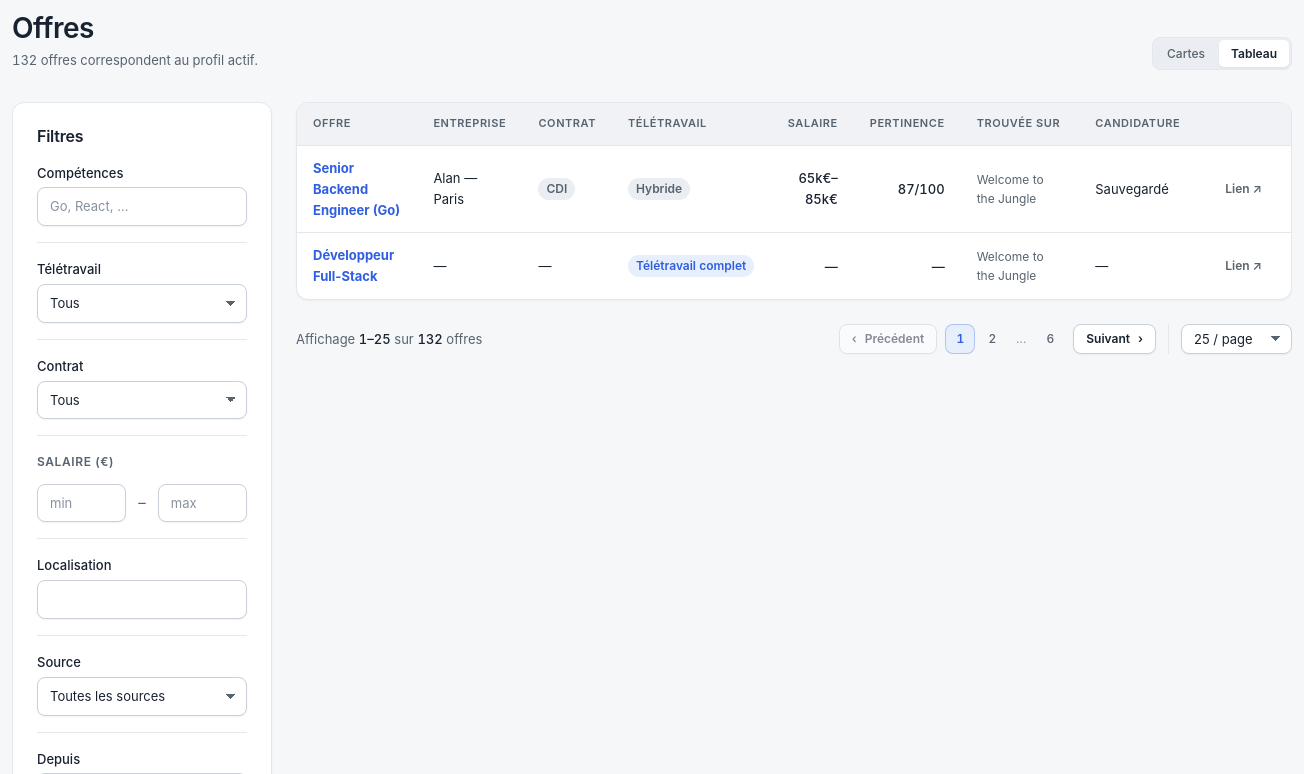
Test case: JobsPage › resets to page 1 when a filter changes
Expected: the link "Senior Backend Engineer (Go)" is shown, [313, 160, 400, 218]
Click the button "Suivant ›" at (1115, 339), box [1073, 324, 1156, 354]
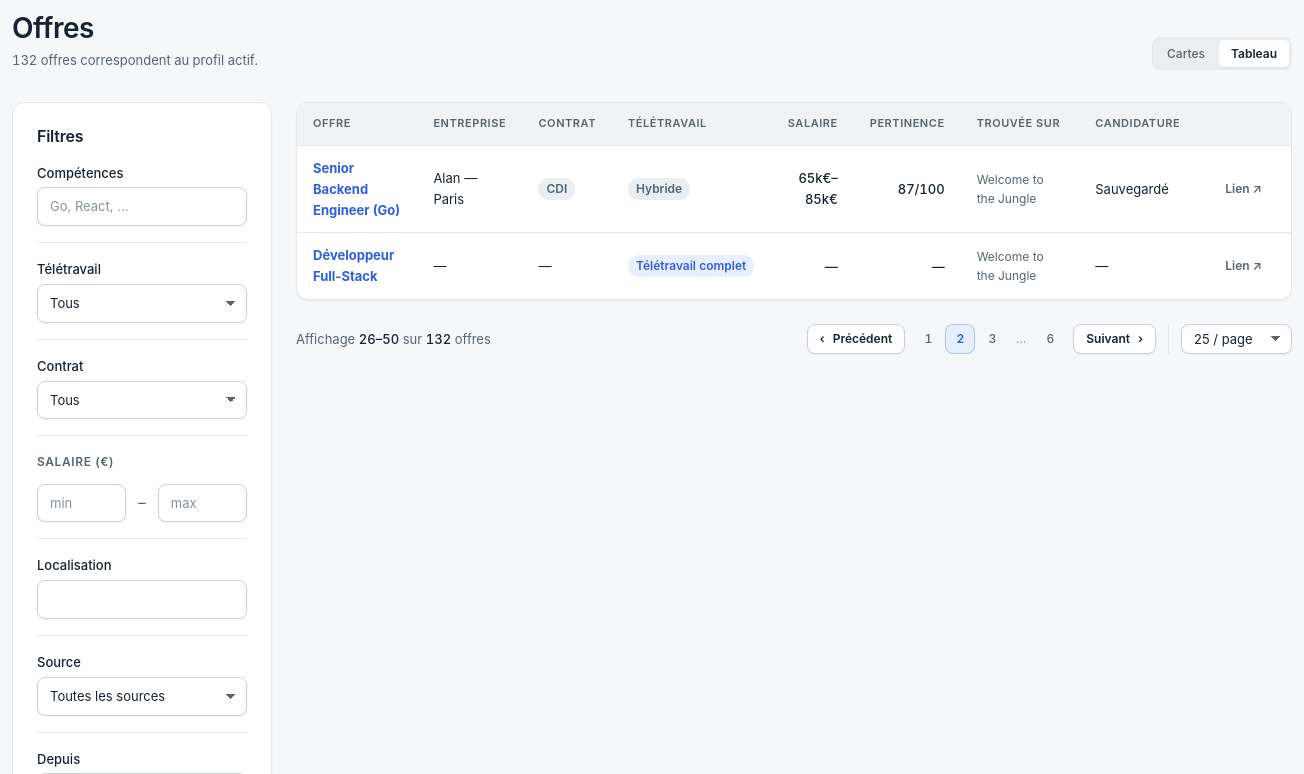
Expected: the text "Affichage 26–50 sur 132 offres" is shown, [296, 329, 491, 349]
Select "Hybride" in the dropdown labelled "Télétravail" at (142, 303), box [37, 284, 247, 323]
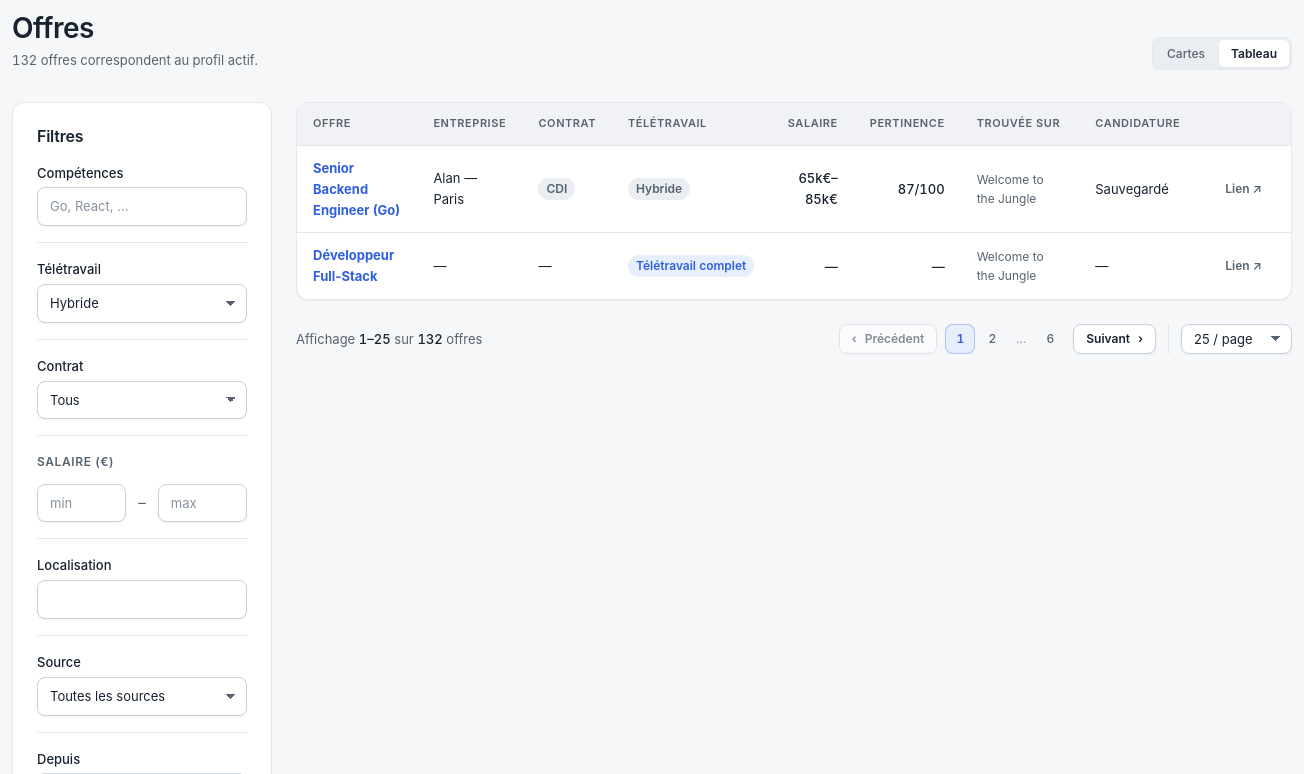
Expected: the text "Affichage 1–25 sur 132 offres" is shown, [296, 329, 482, 349]
